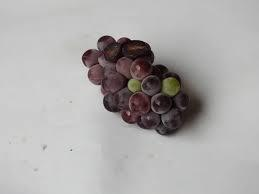Grape Overripe: (82, 35, 187, 134)
